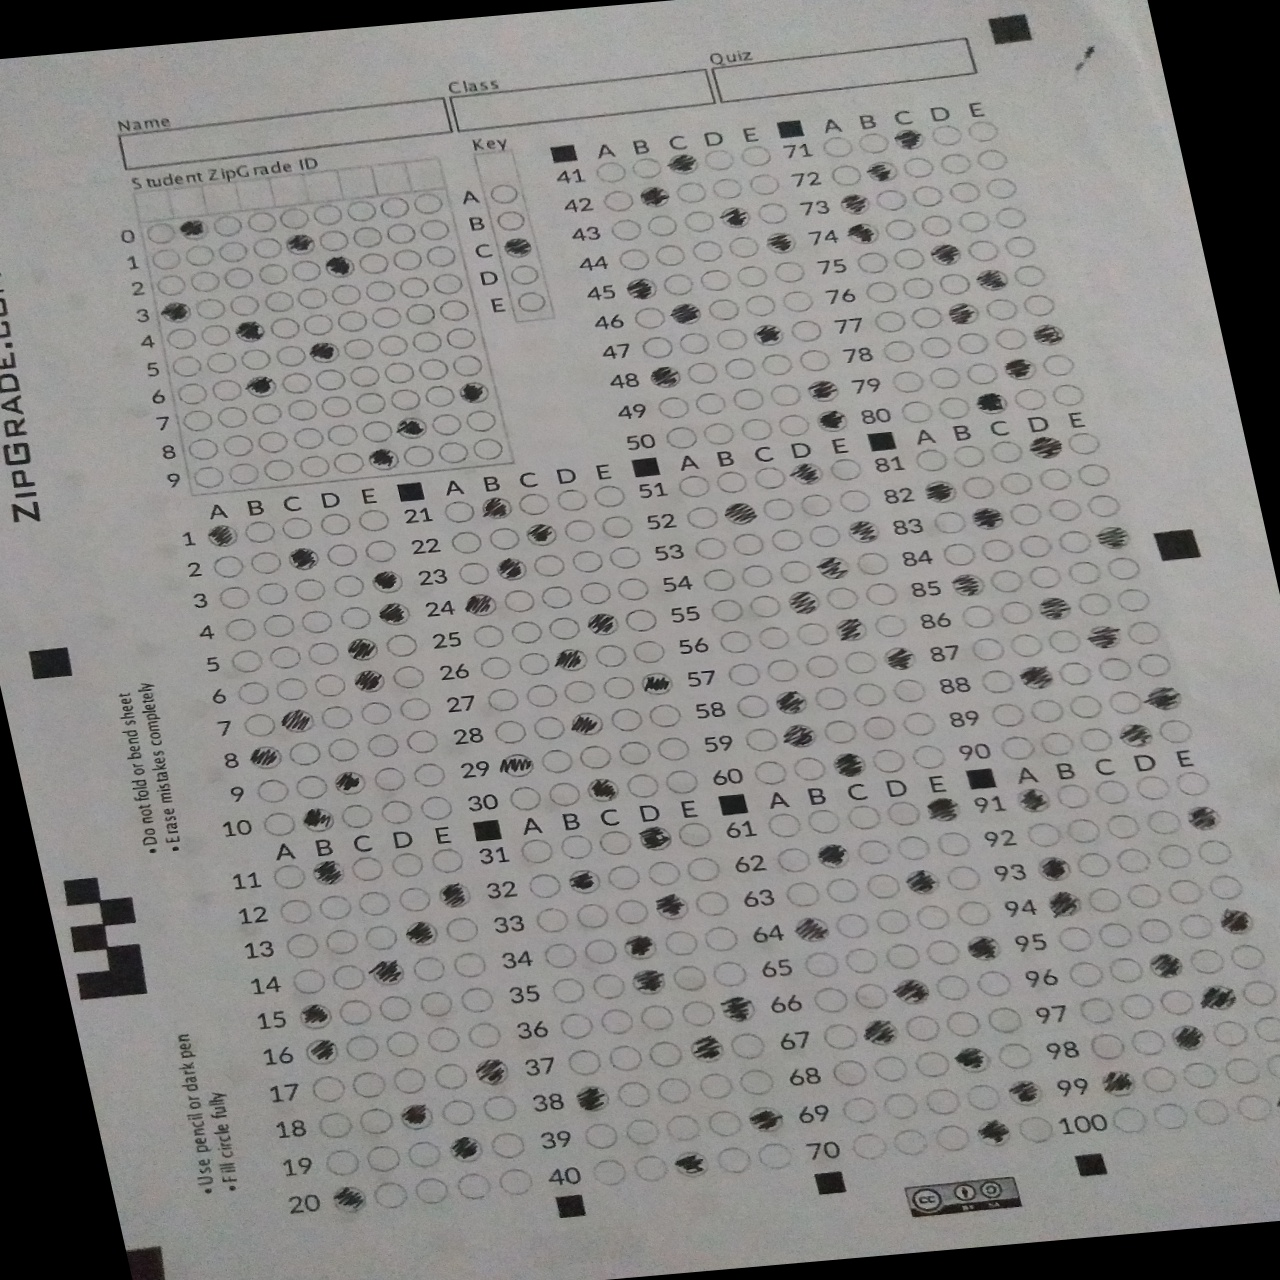not-c: (919, 1085, 968, 1118), (692, 890, 741, 921), (880, 942, 930, 974), (829, 910, 878, 941), (982, 700, 1030, 731), (990, 733, 1039, 764), (312, 1109, 360, 1141), (284, 966, 332, 998), (277, 930, 325, 961), (270, 896, 318, 927), (733, 1065, 781, 1097), (701, 1109, 749, 1141), (674, 1000, 722, 1032), (666, 964, 714, 995), (702, 922, 750, 954), (832, 1092, 880, 1124), (805, 983, 853, 1015), (930, 971, 978, 1002), (940, 1007, 988, 1039), (906, 1048, 954, 1080), (900, 1013, 948, 1044), (840, 802, 888, 833), (860, 870, 908, 901), (850, 836, 898, 867), (802, 808, 850, 839), (847, 980, 896, 1012), (864, 1054, 912, 1085), (302, 1071, 352, 1102), (1183, 945, 1228, 978), (922, 508, 969, 539), (1099, 687, 1146, 719), (962, 1081, 1009, 1112), (931, 539, 979, 570), (969, 667, 1017, 697), (1032, 728, 1080, 758), (1073, 724, 1121, 755), (1089, 654, 1137, 685), (325, 962, 373, 993), (309, 892, 358, 922), (316, 1146, 365, 1177), (267, 862, 315, 892), (384, 1065, 433, 1096), (610, 899, 658, 930), (535, 940, 583, 971), (754, 1141, 802, 1171), (709, 1145, 757, 1176), (692, 1071, 740, 1102), (661, 930, 709, 960), (644, 859, 692, 890), (708, 960, 756, 990), (686, 855, 734, 885), (873, 1090, 921, 1121), (821, 1056, 869, 1087), (815, 1022, 863, 1053), (777, 880, 825, 911), (765, 847, 813, 878), (763, 811, 811, 842), (872, 908, 920, 939), (821, 874, 869, 905), (1175, 910, 1219, 942), (1177, 1061, 1223, 1092), (904, 445, 951, 476), (951, 601, 998, 632), (959, 633, 1006, 663), (348, 1068, 395, 1098), (338, 1032, 384, 1062), (393, 885, 440, 915), (407, 1176, 454, 1206), (356, 925, 403, 955), (560, 1047, 607, 1077), (493, 1167, 540, 1198), (483, 1130, 530, 1160), (454, 983, 501, 1014), (591, 1006, 638, 1036), (639, 1039, 686, 1069), (619, 1116, 666, 1146), (612, 1080, 659, 1110), (515, 835, 561, 865), (726, 1030, 772, 1061), (673, 819, 720, 850), (794, 949, 840, 980), (835, 948, 881, 979), (1207, 1015, 1252, 1047), (1138, 915, 1183, 947), (1164, 876, 1208, 907), (1130, 774, 1175, 805), (343, 852, 392, 881), (602, 1044, 651, 1074), (367, 1182, 413, 1212), (361, 1144, 407, 1175), (334, 998, 380, 1028), (422, 1024, 468, 1055), (424, 1062, 470, 1092), (375, 993, 421, 1023), (464, 1021, 510, 1051), (652, 1076, 697, 1107), (584, 972, 629, 1002), (568, 903, 614, 933), (1217, 1056, 1262, 1087), (1122, 881, 1167, 912), (1141, 810, 1186, 840), (1203, 873, 1248, 904), (712, 627, 758, 656), (501, 784, 547, 813), (316, 927, 363, 956), (602, 864, 649, 893), (404, 954, 451, 983), (416, 988, 463, 1017), (434, 1098, 481, 1128), (399, 1141, 445, 1170), (553, 1012, 600, 1041), (587, 1159, 634, 1189), (476, 1094, 523, 1123), (427, 846, 474, 876), (634, 1002, 681, 1032), (626, 1153, 673, 1183), (530, 908, 577, 938), (522, 870, 568, 899), (384, 849, 429, 879), (452, 1171, 497, 1201), (1155, 987, 1199, 1017), (1152, 840, 1197, 871), (1171, 770, 1216, 801), (1194, 838, 1239, 869), (1226, 942, 1271, 973), (818, 716, 864, 745), (509, 648, 554, 678), (434, 497, 479, 526), (612, 736, 658, 765), (537, 583, 583, 612), (353, 1105, 399, 1135), (380, 1029, 425, 1058), (350, 888, 396, 918), (543, 976, 588, 1006), (438, 915, 484, 945), (661, 1114, 707, 1143), (554, 832, 600, 862), (595, 828, 641, 857), (1112, 847, 1156, 878), (1233, 1092, 1276, 1123), (1115, 992, 1158, 1022), (678, 503, 724, 531), (324, 737, 370, 765), (304, 638, 350, 666), (712, 469, 756, 498), (669, 471, 714, 501), (849, 680, 893, 709), (320, 539, 365, 568), (309, 670, 354, 700), (608, 545, 653, 574), (542, 614, 586, 644), (578, 1122, 622, 1151), (1026, 561, 1071, 590), (1063, 558, 1109, 586), (1003, 629, 1049, 658), (1013, 531, 1058, 559), (955, 474, 1001, 502), (821, 585, 866, 613), (810, 685, 856, 713), (727, 530, 772, 558), (787, 753, 832, 781), (726, 695, 771, 723), (686, 535, 731, 563), (802, 523, 847, 551), (870, 612, 915, 640), (908, 742, 954, 770), (354, 699, 400, 727), (375, 798, 421, 826), (358, 506, 403, 535), (275, 513, 321, 542), (257, 612, 302, 640), (234, 520, 280, 549), (254, 810, 300, 838), (250, 778, 295, 806), (230, 680, 275, 708), (217, 617, 263, 645), (215, 585, 260, 613), (502, 618, 547, 646), (515, 491, 560, 519), (482, 525, 527, 553), (629, 638, 675, 666), (599, 513, 645, 542), (568, 549, 614, 577), (651, 734, 696, 762), (577, 937, 622, 965), (930, 831, 972, 862), (1126, 1027, 1169, 1057), (797, 491, 840, 520), (587, 483, 631, 512), (1051, 782, 1095, 811), (1240, 976, 1280, 1008), (859, 580, 904, 608), (853, 550, 898, 578), (833, 489, 878, 517), (823, 457, 867, 485), (1007, 499, 1051, 527), (1073, 588, 1117, 617), (1044, 628, 1089, 656), (1053, 658, 1097, 686), (1064, 693, 1109, 721), (1024, 697, 1069, 726), (986, 565, 1030, 593), (973, 536, 1017, 564), (994, 470, 1039, 498), (802, 651, 846, 679), (789, 621, 833, 649), (774, 557, 818, 585), (767, 525, 811, 553), (758, 496, 803, 524), (735, 724, 779, 753), (721, 660, 765, 688), (858, 714, 903, 742), (869, 747, 913, 775), (408, 762, 452, 790), (403, 727, 448, 755), (327, 570, 372, 598), (315, 702, 360, 730), (243, 550, 287, 578), (270, 676, 314, 704), (232, 712, 277, 740), (219, 648, 264, 676), (203, 553, 247, 581), (574, 743, 619, 771), (542, 779, 586, 808), (533, 745, 578, 774), (522, 681, 566, 709), (552, 486, 597, 515), (470, 655, 515, 683), (463, 624, 508, 652), (445, 559, 490, 587), (445, 529, 490, 557), (621, 606, 666, 634), (576, 581, 620, 610), (599, 675, 644, 703), (665, 770, 709, 798), (559, 515, 604, 543), (942, 864, 983, 894), (890, 1128, 931, 1158), (922, 938, 965, 967), (952, 899, 994, 928), (995, 1042, 1037, 1071), (983, 1006, 1026, 1035), (930, 1122, 972, 1151), (1150, 1102, 1192, 1131), (1107, 1105, 1149, 1135), (1014, 1114, 1056, 1143), (1091, 778, 1133, 808), (1096, 920, 1138, 949), (1083, 886, 1125, 915), (993, 599, 1039, 626), (887, 676, 933, 703), (316, 512, 362, 539), (291, 576, 336, 602), (264, 646, 309, 673), (282, 738, 328, 765), (557, 676, 602, 703), (605, 704, 651, 731), (750, 464, 794, 492), (751, 624, 795, 652), (760, 656, 803, 685), (697, 564, 741, 592), (840, 648, 884, 676), (899, 708, 942, 736), (338, 602, 381, 631), (390, 661, 434, 689), (254, 580, 298, 608), (363, 731, 407, 760), (526, 712, 570, 740), (498, 587, 542, 615), (649, 699, 693, 727), (614, 574, 658, 602), (527, 553, 571, 581), (896, 833, 937, 863), (972, 968, 1013, 998), (846, 1131, 887, 1160), (1191, 1097, 1232, 1126), (1088, 1032, 1129, 1061), (1065, 960, 1107, 989), (1054, 926, 1095, 955), (1024, 819, 1065, 849), (1102, 812, 1143, 842), (735, 564, 779, 591), (743, 594, 788, 621), (701, 595, 745, 622), (397, 696, 442, 723), (377, 632, 422, 659), (361, 539, 406, 566), (297, 610, 341, 636), (290, 775, 334, 802), (486, 716, 531, 743), (590, 644, 634, 670), (1076, 995, 1118, 1023), (1105, 956, 1148, 985), (1071, 850, 1114, 878), (1062, 817, 1104, 845), (745, 760, 789, 787), (370, 765, 414, 792), (416, 794, 459, 821), (336, 802, 380, 829), (479, 687, 523, 714), (622, 772, 666, 799), (450, 949, 490, 979), (913, 904, 954, 932), (884, 801, 925, 829), (1141, 1065, 1182, 1094), (775, 413, 815, 440), (672, 181, 712, 207), (897, 275, 937, 302), (241, 209, 282, 234), (308, 200, 347, 227), (207, 377, 246, 404), (335, 309, 374, 336), (327, 282, 366, 309), (399, 443, 437, 470), (294, 452, 333, 479), (756, 350, 795, 377), (681, 207, 720, 234), (676, 331, 715, 358), (484, 181, 523, 207), (491, 207, 530, 234), (510, 290, 549, 316), (955, 207, 994, 234), (1041, 350, 1080, 377), (993, 204, 1032, 231), (982, 173, 1021, 200), (207, 213, 247, 239), (427, 411, 467, 437), (144, 247, 184, 273), (189, 463, 229, 489), (181, 243, 220, 268), (268, 343, 308, 369), (318, 392, 358, 417), (309, 366, 349, 392), (328, 449, 368, 475), (277, 370, 316, 396), (754, 200, 794, 226), (765, 382, 805, 408), (779, 290, 819, 315), (712, 327, 751, 353), (651, 243, 690, 268), (915, 334, 955, 360), (904, 305, 944, 331), (881, 218, 921, 244), (897, 399, 937, 424), (863, 278, 903, 304), (938, 152, 978, 178), (910, 184, 949, 210), (964, 237, 1003, 263), (985, 297, 1024, 322), (1108, 553, 1148, 579), (1133, 653, 1173, 679), (1126, 621, 1166, 647), (1248, 1013, 1280, 1044), (375, 195, 414, 220), (275, 205, 314, 231), (421, 243, 459, 268), (181, 243, 219, 268), (172, 382, 211, 408), (252, 261, 291, 287), (246, 234, 285, 260), (183, 268, 222, 294), (259, 290, 298, 315), (261, 456, 300, 482), (224, 462, 263, 488), (219, 433, 258, 458), (213, 406, 252, 431), (361, 279, 400, 305), (350, 225, 389, 251), (313, 229, 352, 254), (267, 315, 306, 341), (294, 286, 333, 312), (421, 384, 459, 410), (415, 358, 454, 383), (449, 352, 488, 377), (440, 325, 478, 350), (387, 387, 425, 413), (380, 362, 418, 388), (358, 420, 396, 445), (346, 363, 384, 389), (403, 301, 442, 327), (435, 298, 474, 324), (431, 271, 470, 297), (395, 275, 434, 301), (417, 219, 456, 245), (380, 222, 418, 247), (433, 440, 471, 465), (948, 443, 987, 469), (770, 259, 809, 285), (728, 387, 767, 413), (721, 356, 760, 382), (628, 155, 667, 181), (639, 215, 678, 240), (700, 420, 738, 445), (662, 425, 701, 451), (629, 305, 668, 331), (614, 246, 653, 272), (605, 217, 644, 243), (599, 188, 638, 213), (593, 159, 632, 185), (925, 366, 964, 392), (887, 248, 926, 274), (873, 188, 912, 213), (933, 395, 972, 421), (871, 309, 910, 335), (855, 251, 893, 277), (821, 134, 859, 159), (707, 176, 745, 202), (947, 181, 986, 206), (933, 271, 972, 297), (960, 360, 999, 386), (1009, 386, 1048, 411), (1048, 381, 1087, 407), (1020, 292, 1058, 318), (1012, 264, 1050, 290), (1001, 233, 1040, 259), (974, 147, 1013, 172), (962, 118, 1001, 144), (986, 440, 1024, 465), (930, 122, 968, 148), (901, 154, 940, 179), (1158, 719, 1197, 744), (141, 220, 181, 245), (161, 326, 200, 350), (234, 347, 274, 372), (200, 350, 240, 375), (372, 333, 411, 358), (352, 392, 392, 416), (284, 396, 324, 421), (733, 265, 772, 290), (795, 348, 835, 373), (692, 392, 731, 416), (638, 335, 678, 360), (745, 173, 785, 198), (990, 326, 1030, 350), (1046, 498, 1085, 523), (342, 197, 380, 223), (704, 297, 742, 322), (879, 339, 917, 365), (703, 147, 741, 172), (1083, 493, 1121, 519), (726, 234, 763, 260), (409, 192, 448, 217), (203, 350, 241, 375), (184, 437, 223, 462), (181, 409, 219, 434), (196, 322, 234, 347), (192, 297, 231, 321), (218, 266, 257, 291), (212, 240, 251, 265), (166, 353, 205, 377), (149, 273, 188, 298), (254, 430, 293, 455), (226, 293, 265, 318), (248, 401, 287, 425), (354, 252, 393, 277), (300, 313, 339, 338), (410, 328, 449, 353), (340, 338, 379, 362), (322, 421, 361, 445), (287, 425, 326, 450), (367, 307, 406, 332), (469, 436, 508, 461), (464, 408, 503, 433), (738, 293, 777, 318), (787, 319, 825, 343), (735, 415, 774, 440), (697, 268, 736, 293), (688, 240, 727, 265), (683, 360, 722, 384), (653, 394, 692, 418), (503, 263, 542, 287), (887, 370, 926, 395), (825, 163, 864, 188), (738, 144, 777, 169), (918, 215, 956, 239), (952, 329, 990, 354), (1065, 433, 1104, 457), (853, 131, 892, 156), (1036, 467, 1075, 491), (1111, 587, 1150, 612), (1057, 530, 1096, 554), (1073, 463, 1111, 488), (288, 258, 325, 284), (661, 273, 699, 298), (392, 248, 425, 273), (1260, 1049, 1280, 1080)
taken-c: (1210, 905, 1259, 937), (855, 1016, 904, 1048), (681, 1032, 729, 1063), (622, 965, 670, 996), (614, 931, 662, 962), (325, 1182, 373, 1213), (392, 1101, 440, 1132), (292, 999, 340, 1030), (396, 918, 444, 949), (918, 795, 966, 826), (560, 864, 608, 896), (302, 856, 350, 887), (1040, 888, 1088, 920), (1094, 1065, 1142, 1097), (667, 1148, 715, 1179), (808, 840, 857, 871), (1032, 853, 1081, 884), (947, 1044, 996, 1075), (365, 958, 411, 989), (1032, 591, 1078, 622), (1114, 719, 1160, 750), (579, 772, 627, 803), (241, 742, 290, 772), (327, 767, 375, 797), (774, 719, 822, 749), (567, 1083, 615, 1114), (787, 914, 835, 945), (714, 994, 762, 1024), (440, 1133, 488, 1164), (467, 1055, 515, 1085), (1010, 785, 1058, 816), (430, 880, 478, 911), (1194, 982, 1242, 1013), (1164, 1021, 1212, 1051), (896, 867, 944, 898), (958, 933, 1006, 964), (888, 976, 937, 1007), (1001, 1077, 1049, 1108), (738, 1103, 787, 1133), (765, 688, 813, 719), (579, 610, 627, 640), (273, 704, 321, 735), (1080, 622, 1128, 653), (561, 706, 608, 736), (491, 749, 538, 779), (628, 821, 675, 851), (651, 893, 697, 924), (297, 1036, 343, 1067), (1144, 949, 1191, 980), (971, 1117, 1017, 1148), (372, 598, 418, 628), (549, 644, 595, 674), (1089, 522, 1136, 552), (944, 571, 990, 601), (1014, 662, 1061, 693), (1180, 801, 1227, 831), (828, 750, 876, 779), (826, 615, 874, 645), (874, 644, 922, 673), (294, 804, 340, 835), (361, 566, 408, 595), (1139, 682, 1186, 712), (915, 477, 962, 506), (966, 387, 1012, 416), (1023, 433, 1069, 462), (474, 495, 520, 523), (631, 182, 678, 210), (486, 554, 532, 583), (840, 517, 886, 545), (779, 587, 825, 615), (634, 669, 678, 699), (154, 299, 197, 328), (810, 554, 855, 583), (719, 499, 763, 527), (197, 522, 241, 550), (922, 239, 967, 267), (941, 300, 986, 328), (1024, 320, 1069, 348), (712, 202, 756, 230), (885, 125, 930, 154), (858, 159, 903, 188), (459, 590, 502, 619), (965, 505, 1010, 532), (785, 459, 829, 488), (519, 520, 563, 549), (832, 189, 876, 217), (839, 220, 883, 248), (971, 266, 1014, 294), (280, 545, 325, 572), (756, 229, 801, 256), (347, 666, 389, 694), (998, 356, 1041, 383), (619, 275, 662, 302), (341, 635, 382, 663), (239, 372, 280, 400), (802, 379, 843, 407), (277, 230, 321, 256), (497, 236, 539, 263), (810, 406, 850, 434), (662, 150, 702, 178), (663, 300, 704, 327), (644, 365, 685, 392), (316, 254, 359, 280), (304, 339, 343, 366), (451, 380, 492, 406), (749, 321, 790, 347), (363, 445, 402, 472), (392, 415, 430, 442), (230, 319, 268, 345), (173, 216, 210, 240), (1272, 1087, 1280, 1119)
